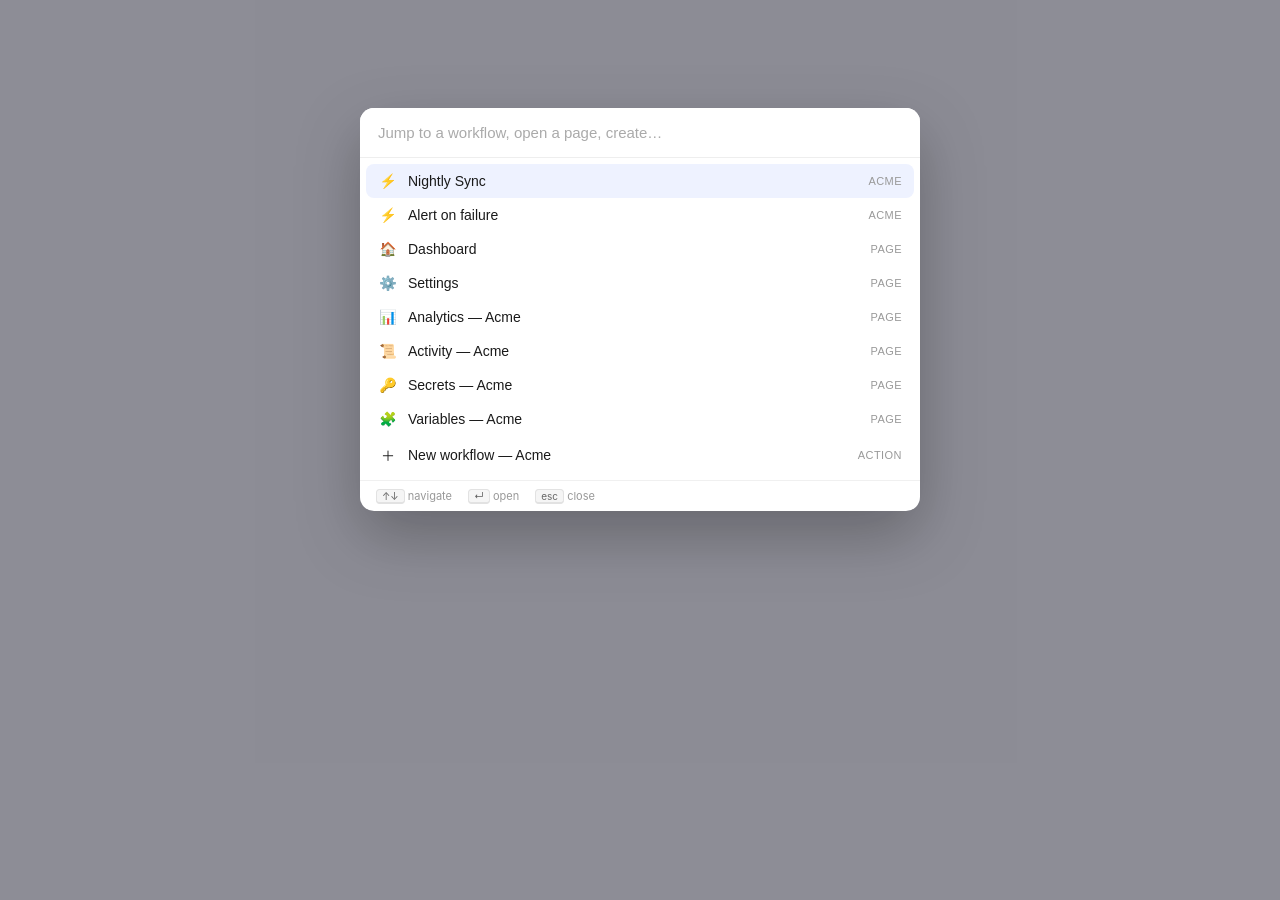
Test: CommandPalette › shows an empty state for a query with no matches
The width and height of the screenshot is (1280, 900).
Expected: the text "Nightly Sync" is shown, [408,173,486,189]
Type "zzzzzz" into the field named "Search". click: (640, 133)
box: [360,108,920,158]
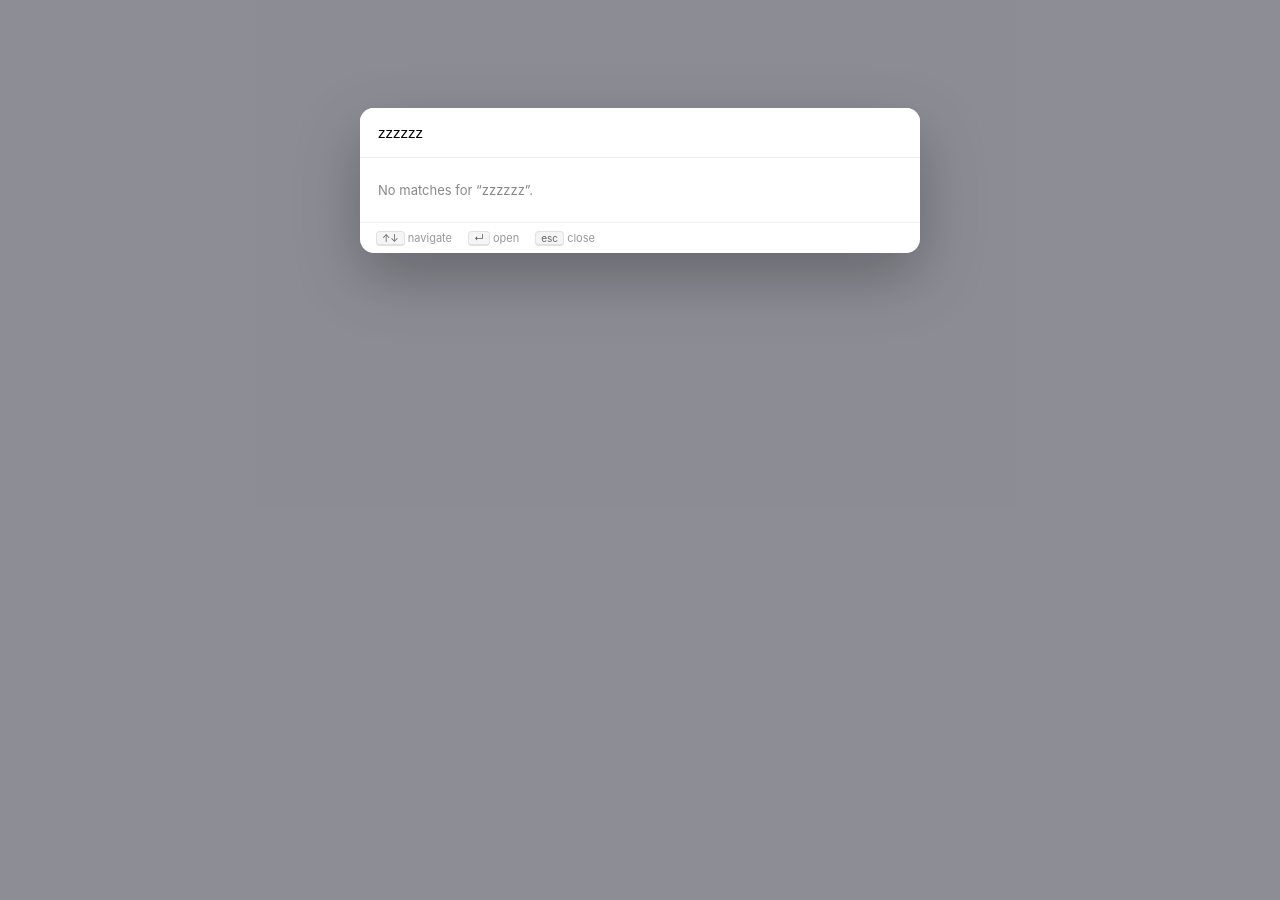
Now the text "No matches for “zzzzzz”." is shown, box [378,182,533,198]
